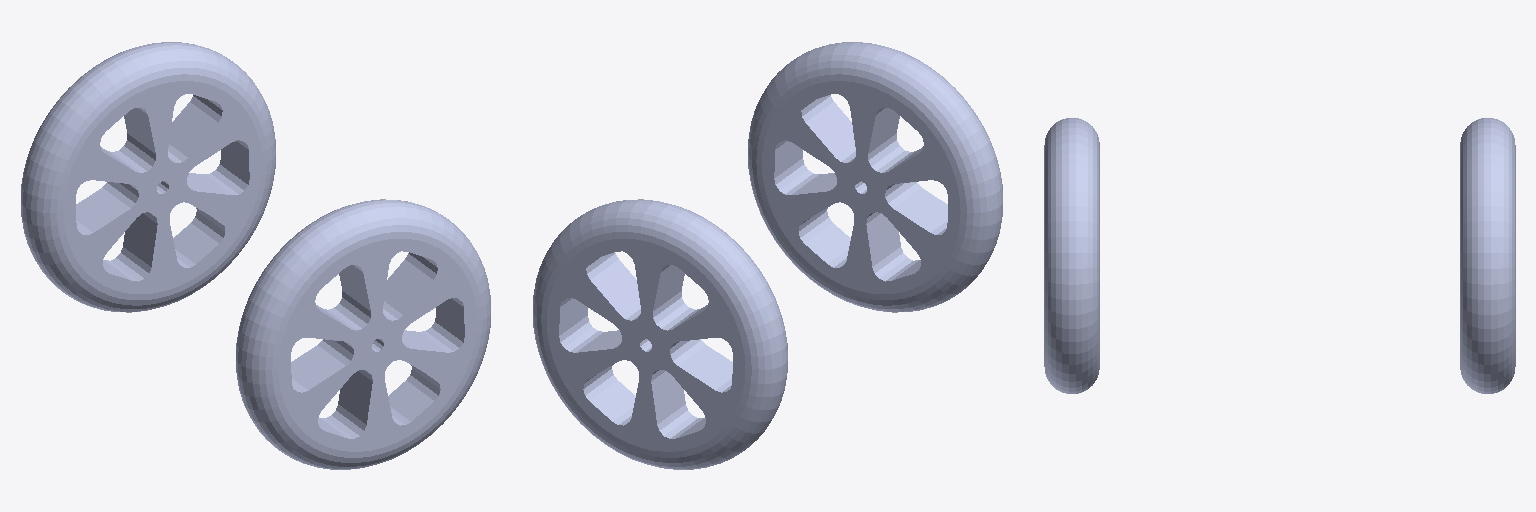
robot.urdf — Robot-0411-1400:
<?xml version="1.0" encoding="utf-8"?>
<!-- This URDF was automatically created by SolidWorks to URDF Exporter! Originally created by [author] ([email redacted]) 
     Commit Version: 1.6.0-4-g7f85cfe  Build Version: 1.6.7995.38578
     For more information, please see http://wiki.ros.org/sw_urdf_exporter -->
<robot
  name="Robot-0411-1400">
  <link
    name="Body">
    <inertial>
      <origin
        xyz="-0.0269364590999195 0.0750000000000001 -0.0333020701103129"
        rpy="0 0 0" />
      <mass
        value="0.259687822807211" />
      <inertia
        ixx="0.000263883767567918"
        ixy="1.03789660179479E-19"
        ixz="2.83874959864717E-05"
        iyy="0.00029022151243818"
        iyz="-1.14819286467261E-19"
        izz="0.000304338639837751" />
    </inertial>
    <visual>
      <origin
        xyz="0 0 0"
        rpy="0 0 0" />
      <geometry>
        <mesh
          filename="package://Robot-0411-1400/meshes/Body.STL" />
      </geometry>
      <material
        name="">
        <color
          rgba="0.792156862745098 0.819607843137255 0.933333333333333 1" />
      </material>
    </visual>
    <collision>
      <origin
        xyz="0 0 0"
        rpy="0 0 0" />
      <geometry>
        <mesh
          filename="package://Robot-0411-1400/meshes/Body.STL" />
      </geometry>
    </collision>
  </link>
  <link
    name="Wheel_1">
    <inertial>
      <origin
        xyz="-1.38777878078145E-17 1.89387097171004E-17 0"
        rpy="0 0 0" />
      <mass
        value="0.0981527452118755" />
      <inertia
        ixx="7.13246475399757E-05"
        ixy="-1.04144755691584E-20"
        ixz="5.2206685043356E-20"
        iyy="0.00013687545343136"
        iyz="2.41289959932004E-21"
        izz="7.13246475399756E-05" />
    </inertial>
    <visual>
      <origin
        xyz="0 0 0"
        rpy="0 0 0" />
      <geometry>
        <mesh
          filename="package://Robot-0411-1400/meshes/Wheel_1.STL" />
      </geometry>
      <material
        name="">
        <color
          rgba="0.792156862745098 0.819607843137255 0.933333333333333 1" />
      </material>
    </visual>
    <collision>
      <origin
        xyz="0 0 0"
        rpy="0 0 0" />
      <geometry>
        <mesh
          filename="package://Robot-0411-1400/meshes/Wheel_1.STL" />
      </geometry>
    </collision>
  </link>
  <joint
    name="Wheel_1"
    type="continuous">
    <origin
      xyz="-0.025708 0 -0.14522"
      rpy="0 0 0" />
    <parent
      link="Body" />
    <child
      link="Wheel_1" />
    <axis
      xyz="0 -1 0" />
  </joint>
  <link
    name="Wheel_2">
    <inertial>
      <origin
        xyz="8.46545056276682E-16 0.01 0"
        rpy="0 0 0" />
      <mass
        value="0.0981527452118754" />
      <inertia
        ixx="7.13246475399757E-05"
        ixy="1.19369642570729E-20"
        ixz="5.10267040368649E-20"
        iyy="0.00013687545343136"
        iyz="-2.66693715768763E-21"
        izz="7.13246475399756E-05" />
    </inertial>
    <visual>
      <origin
        xyz="0 0 0"
        rpy="0 0 0" />
      <geometry>
        <mesh
          filename="package://Robot-0411-1400/meshes/Wheel_2.STL" />
      </geometry>
      <material
        name="">
        <color
          rgba="0.792156862745098 0.819607843137255 0.933333333333333 1" />
      </material>
    </visual>
    <collision>
      <origin
        xyz="0 0 0"
        rpy="0 0 0" />
      <geometry>
        <mesh
          filename="package://Robot-0411-1400/meshes/Wheel_2.STL" />
      </geometry>
    </collision>
  </link>
  <joint
    name="Wheel_2"
    type="continuous">
    <origin
      xyz="-0.025708 0.14 -0.14522"
      rpy="0 0 0" />
    <parent
      link="Body" />
    <child
      link="Wheel_2" />
    <axis
      xyz="0 -1 0" />
  </joint>
</robot>

--- Facts derived from the render (not from the file) ---
3 views of the same robot in one strip: view 1: azimuth 30°, elevation 25°; view 2: azimuth 150°, elevation 25°; view 3: azimuth 270°, elevation 25° (orthographic).
Model Robot-0411-1400 with 3 links and 2 joints (2 continuous), rooted at Body, posed every joint at zero.
Visible links, largest first — view 1: Wheel_1, Wheel_2; view 2: Wheel_1, Wheel_2; view 3: Wheel_1, Wheel_2.
Boxes of the visible links, box(x1,y1,x2,y2) form: Wheel_1: box(236, 199, 490, 469); Wheel_2: box(21, 42, 275, 312); Wheel_1: box(748, 42, 1002, 312); Wheel_2: box(533, 199, 787, 469); Wheel_1: box(1044, 118, 1099, 393); Wheel_2: box(1460, 118, 1515, 393).
Bounding box of the posed robot: 0.0999 × 0.17 × 0.0997 m (x, y, z).
2 mesh visuals loaded from 3 distinct referenced files (2 binary STL); not drawn: 1 (reference not matched to a file when rendering).